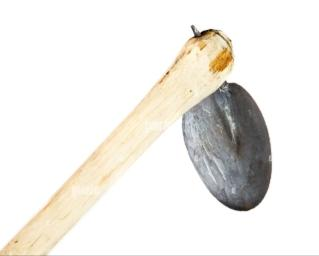HOUE: (0, 15, 275, 256)
